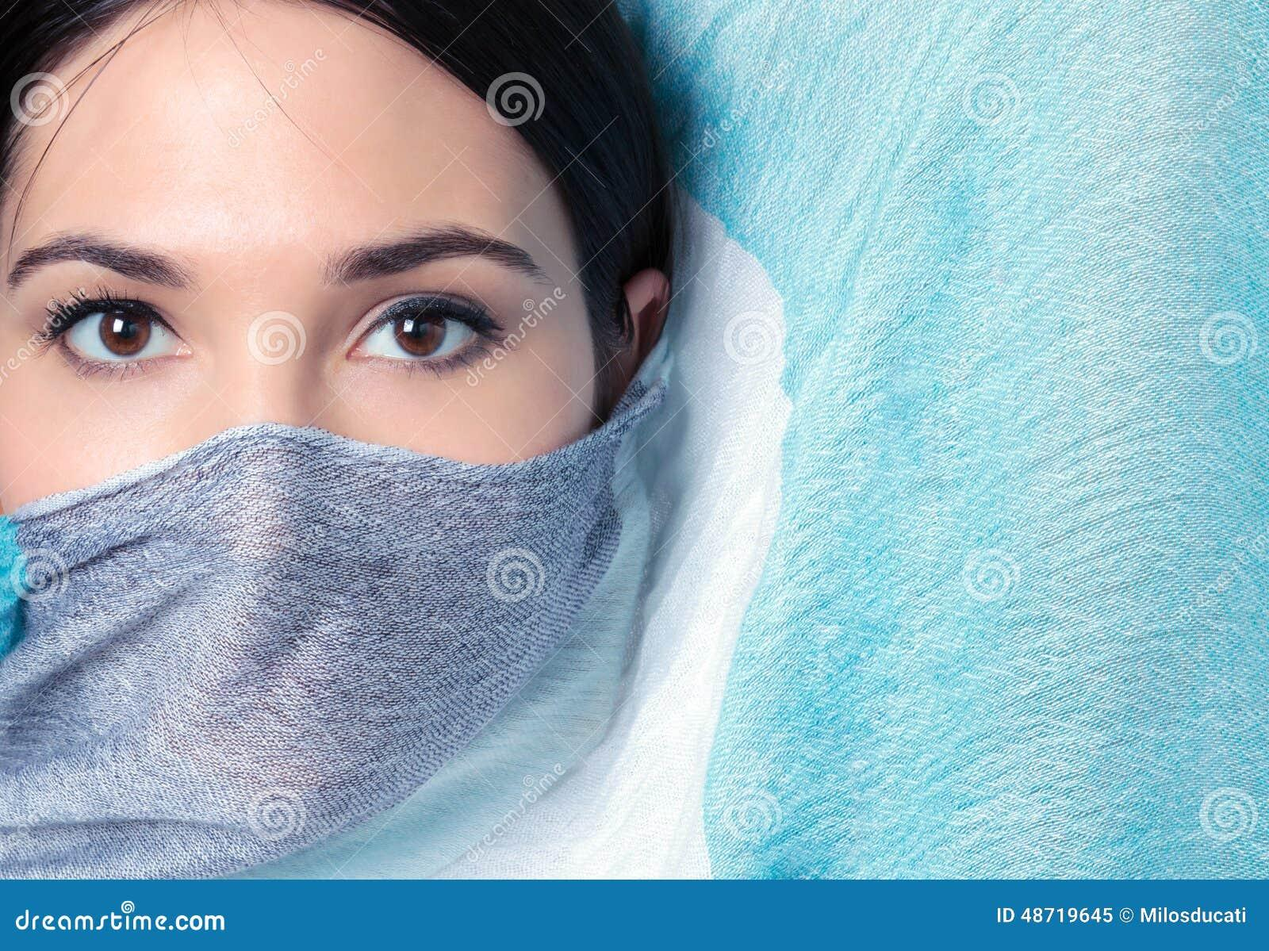scarf-kerchief: (2, 362, 727, 878)
